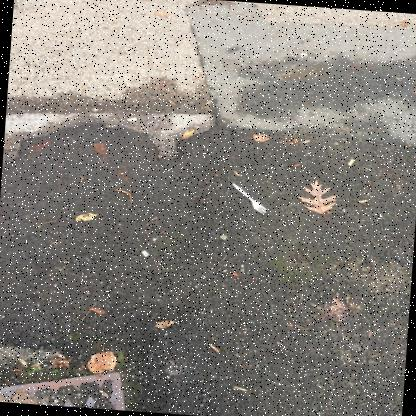Cigarette: (347, 159, 355, 166)
Plastic utensils: (232, 183, 267, 214)
